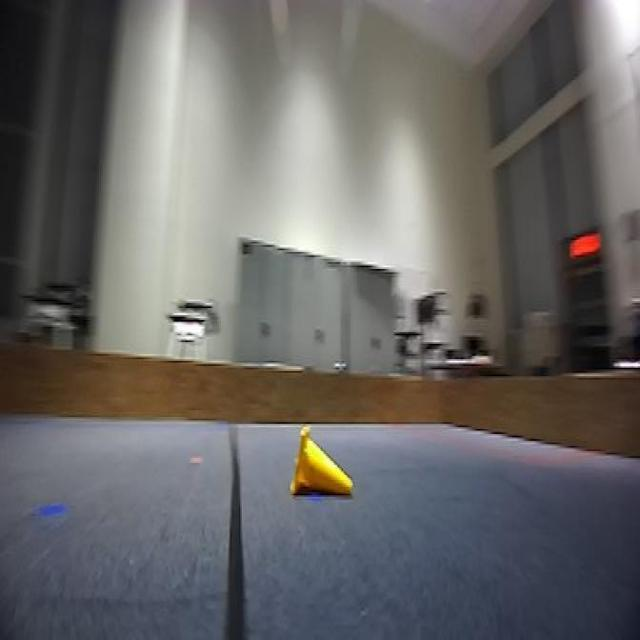frc_cone: (288, 424, 352, 511)
